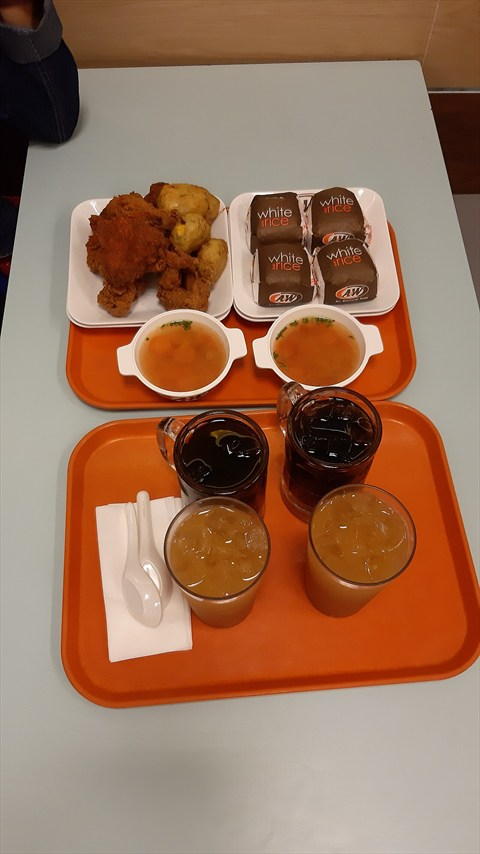Ayam Goreng: (64, 184, 449, 706)
